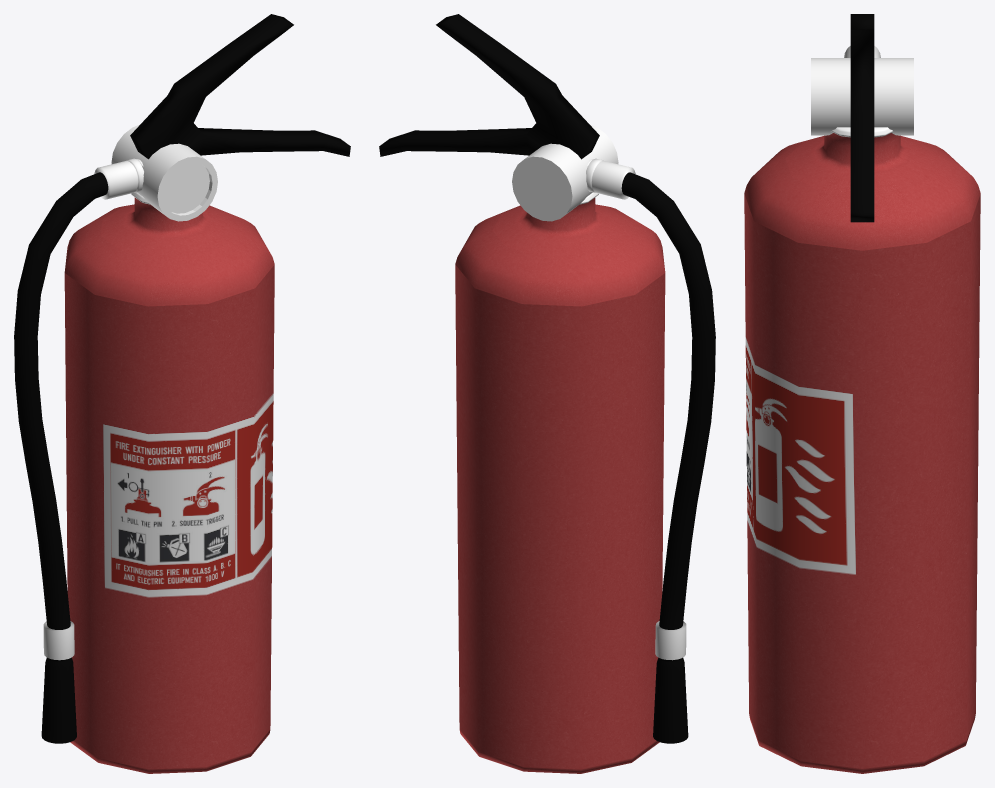
The picture shows the model from 3 angles, left to right: view 1: azimuth 30°, elevation 25°; view 2: azimuth 150°, elevation 25°; view 3: azimuth 270°, elevation 25°; orthographic projection. The views are drawn at different scales.
Visible parts, largest first — view 1: FE4, FE1, FE5, FE3, FE2; view 2: FE4, FE1, FE5, FE3, FE2; view 3: FE4, FE3, FE5.
Part boxes in pixels (box(x1,y1,x2,y2)): FE4: box(64, 192, 274, 773); FE1: box(14, 172, 108, 743); FE5: box(130, 14, 350, 159); FE3: box(111, 124, 217, 221); FE2: box(94, 158, 143, 199); FE4: box(455, 192, 665, 773); FE1: box(621, 172, 715, 743); FE5: box(379, 14, 599, 159); FE3: box(512, 124, 618, 221); FE2: box(586, 158, 635, 199); FE4: box(744, 127, 980, 773); FE3: box(811, 58, 913, 135); FE5: box(850, 14, 874, 222).
Bounding box in the file's own units: 7 × 13.94 × 3.88.
